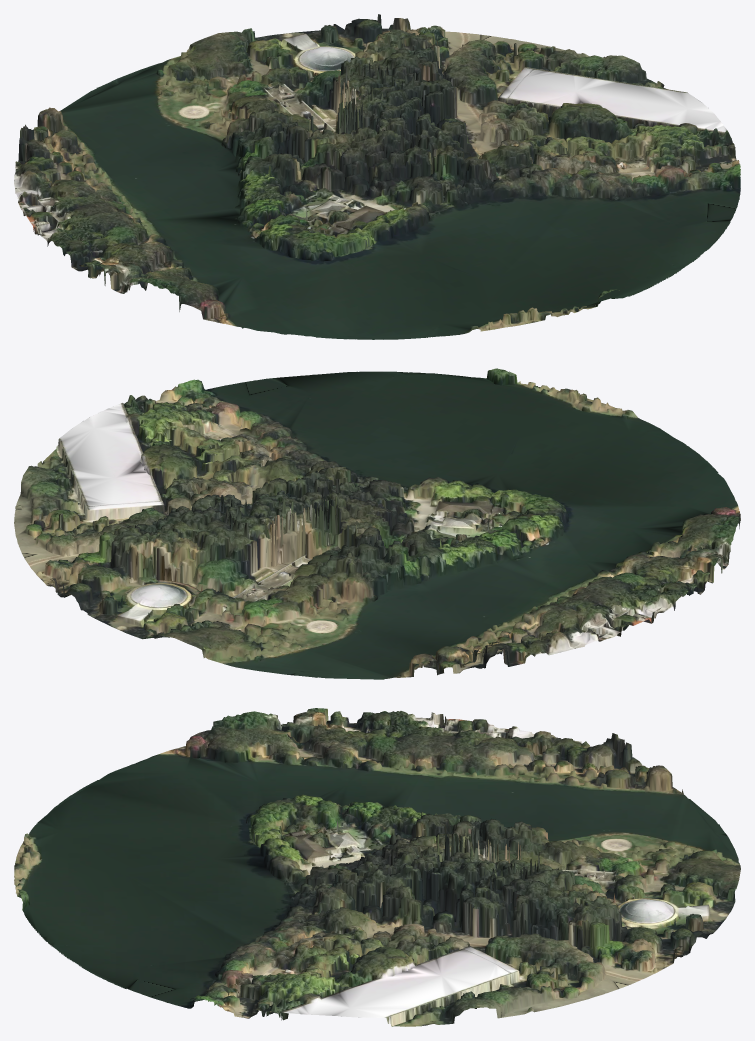
The model's file is pavilhao_japones-transformed.glb.
The picture shows the model from 3 angles, top to bottom: view 1: azimuth 30°, elevation 25°; view 2: azimuth 150°, elevation 25°; view 3: azimuth 270°, elevation 25°; orthographic projection.
Visible parts, largest first — view 1: Node; view 2: Node; view 3: Node.
Boxes of the visible parts, left/top/right/bottom form: Node: left=14, top=14, right=740, bottom=339; Node: left=14, top=368, right=740, bottom=679; Node: left=14, top=708, right=740, bottom=1026.
Bounding box in the file's own units: 1332 × 117 × 1332.
1 material, 1 textured.
